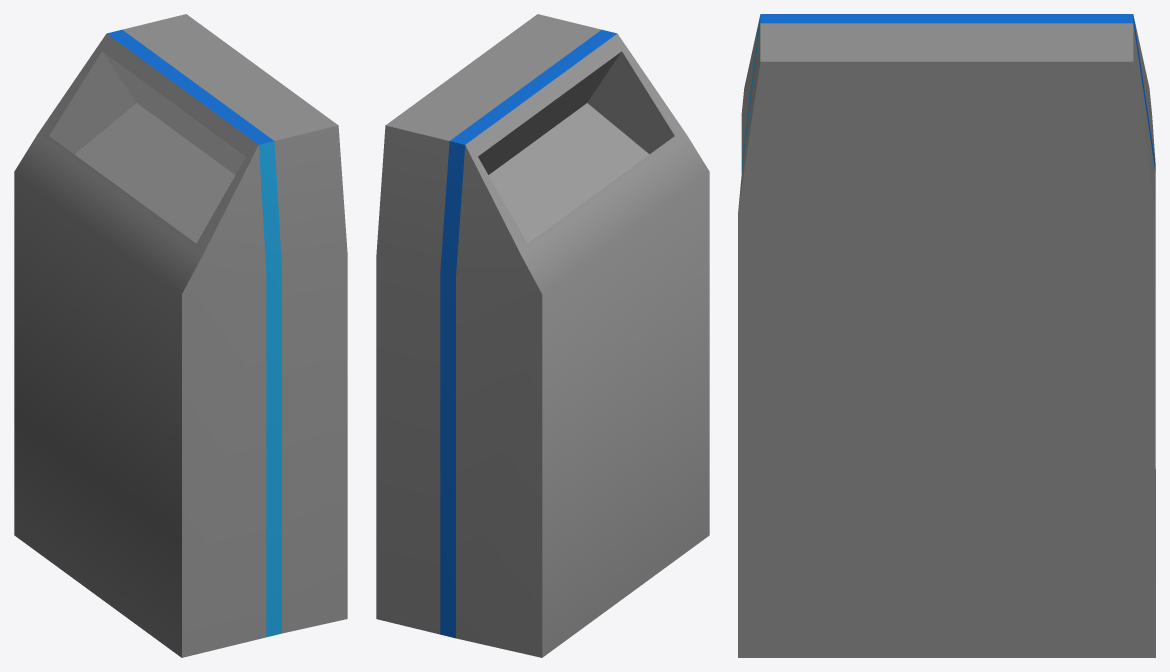
File: trashcan.fbx
The picture shows the model from 3 angles, left to right: view 1: azimuth 30°, elevation 25°; view 2: azimuth 150°, elevation 25°; view 3: azimuth 270°, elevation 25°; orthographic projection. The views are drawn at different scales.
Parts seen in each view (by area): view 1: trashcan001; view 2: trashcan001; view 3: trashcan001.
Part boxes in pixels (left/top/right/bottom): trashcan001: left=14, top=14, right=347, bottom=657; trashcan001: left=376, top=14, right=709, bottom=657; trashcan001: left=738, top=14, right=1155, bottom=657.
Bounding box in the file's own units: 0.4394 × 1.24 × 0.7895.
3 materials, 1 textured.
